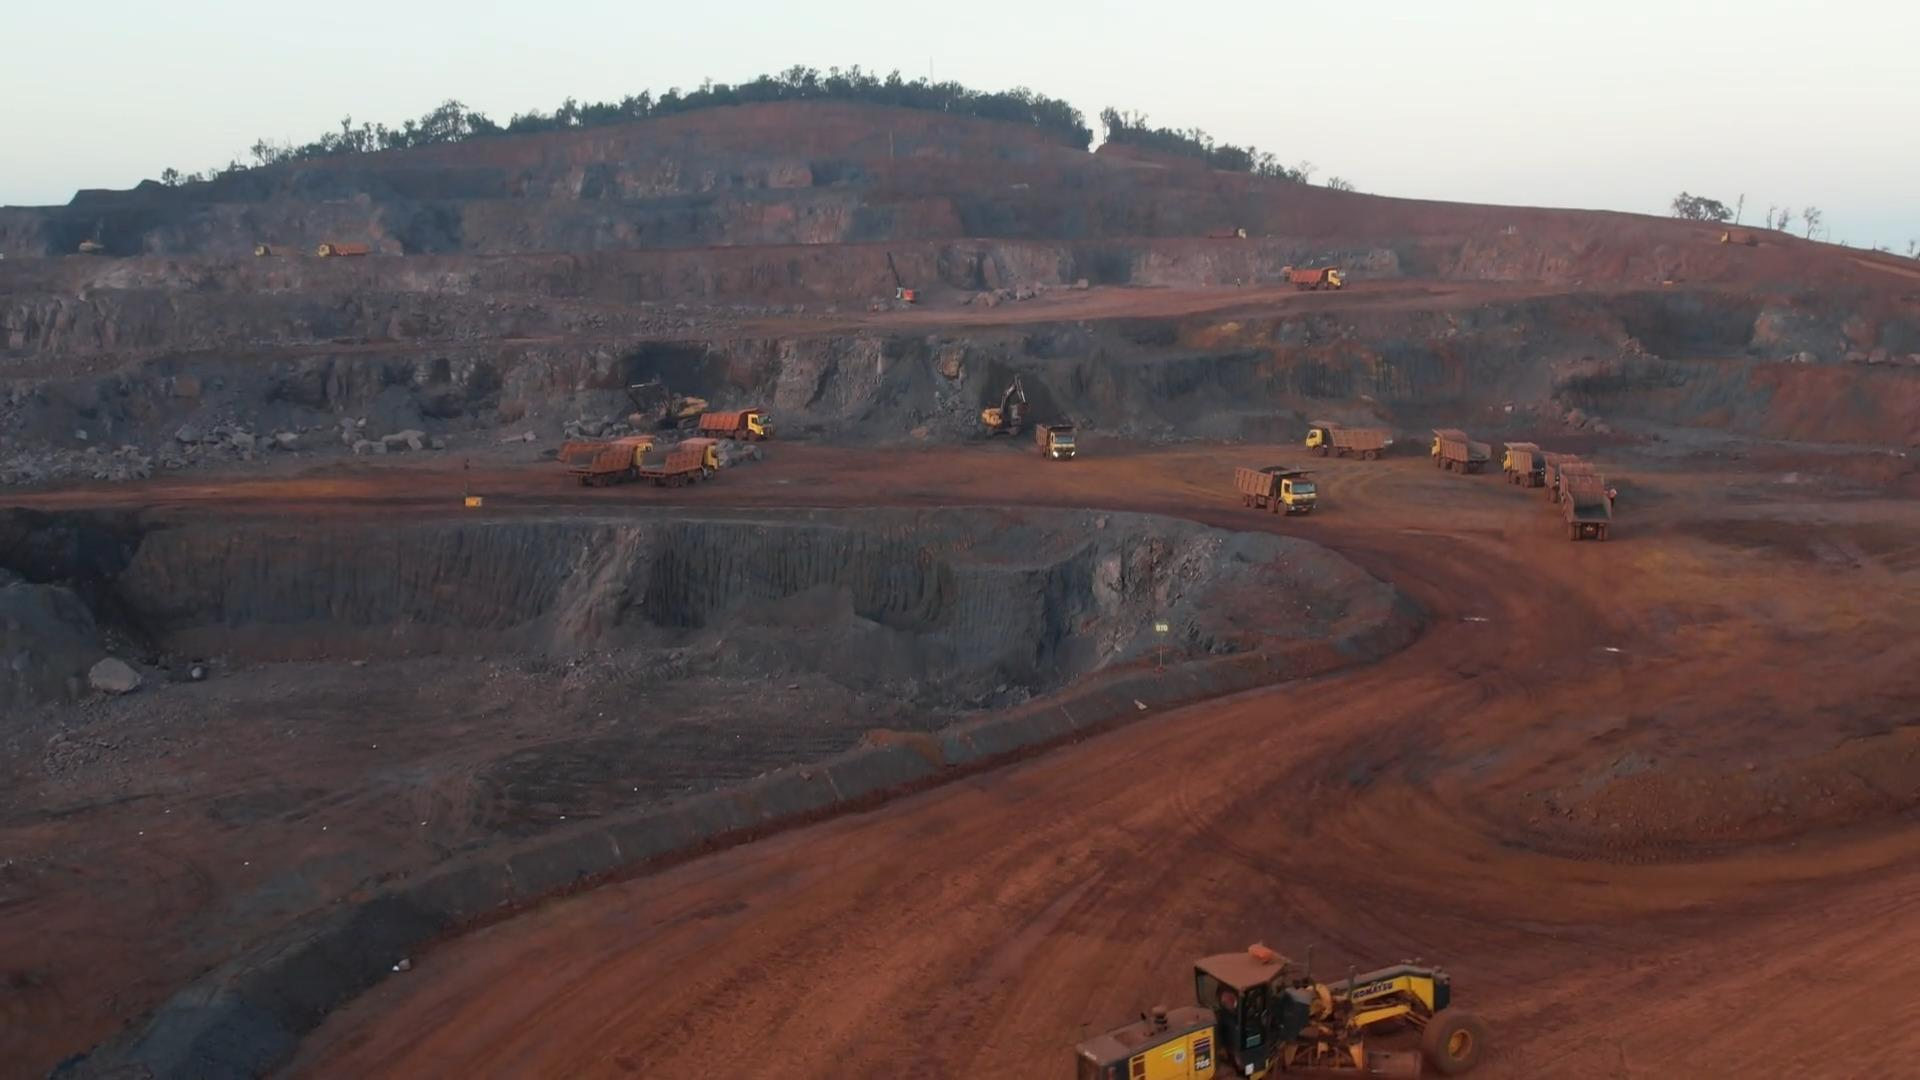excavator: (624, 379, 699, 428), (981, 376, 1029, 435)
